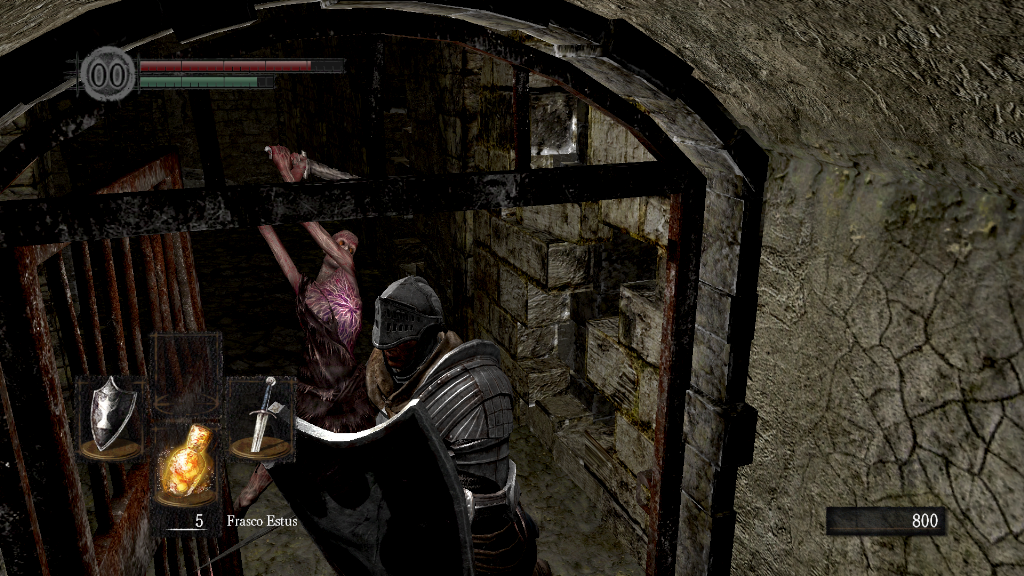health: (138, 58, 343, 71)
hollow: (233, 227, 363, 536)
humanity: (80, 45, 136, 102)
player: (263, 274, 553, 576)
souls: (825, 506, 945, 536)
stamina: (138, 74, 274, 88)
